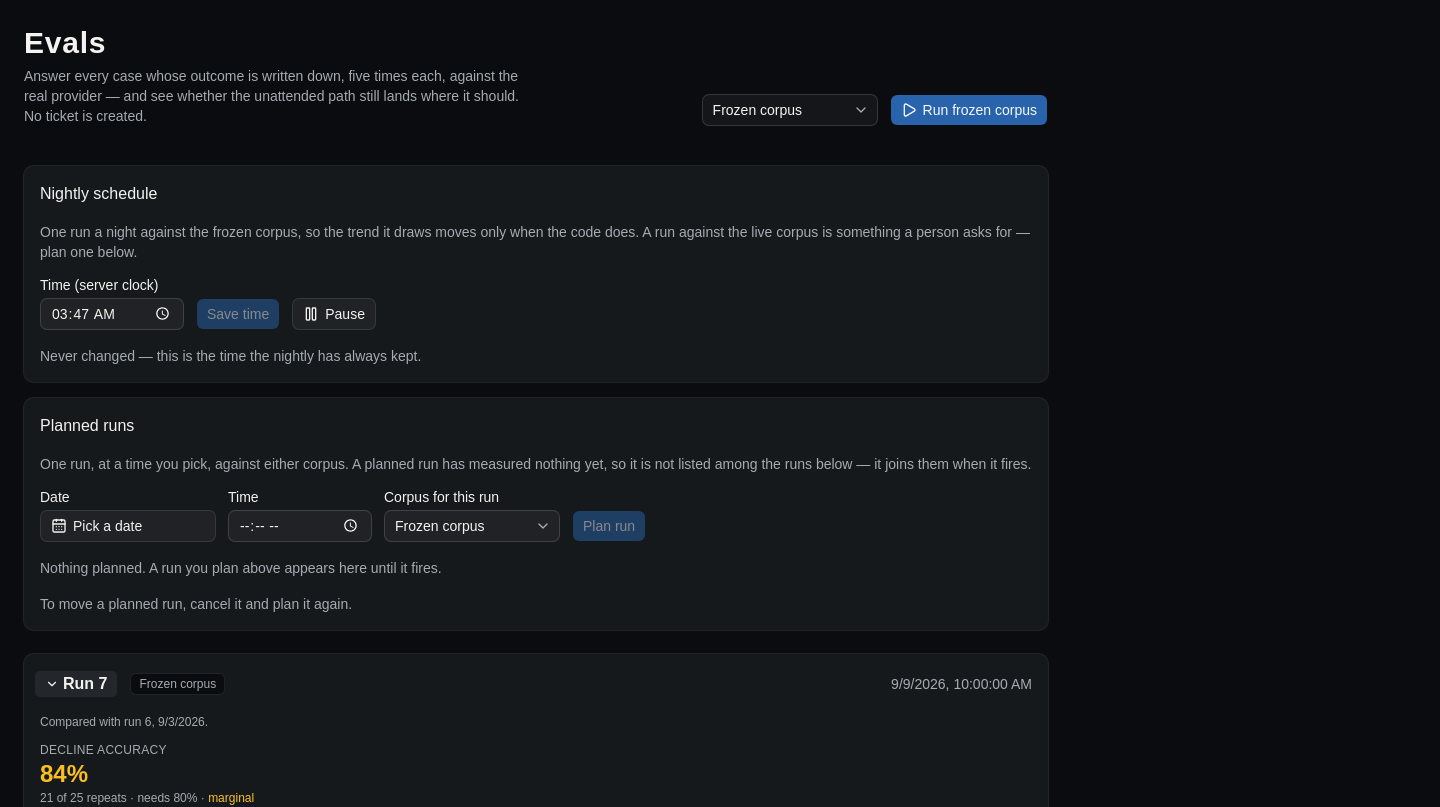
Test: folding a run › keeps the headline numbers on a collapsed run, and folds the rest away
The image size is (1440, 807).
Step 1. Click the button "Run 7" → (76,684), box [34, 670, 118, 698]
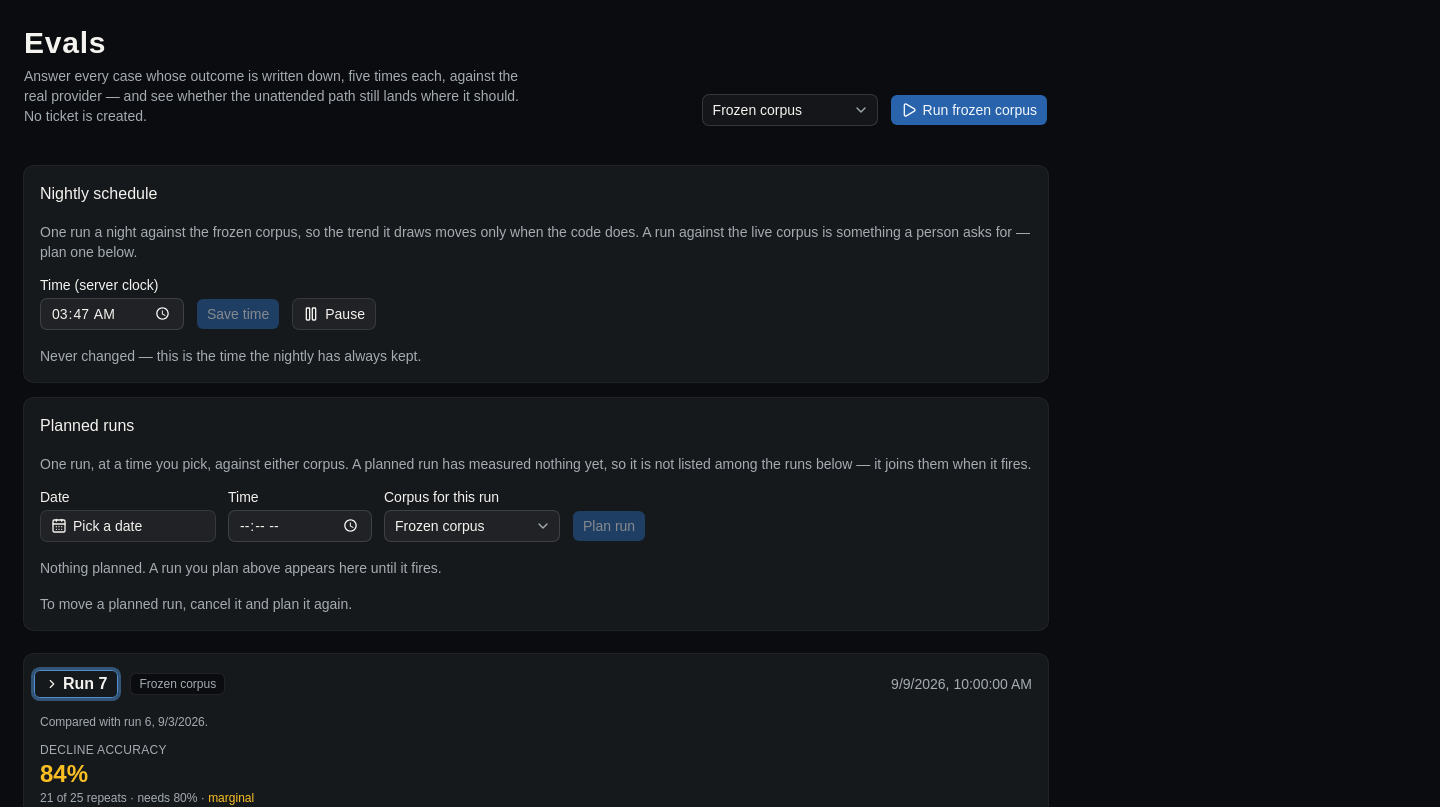
Expected: the text "Frozen corpus" in the row of "9/9/2026, 10:00:00 AM" is shown, [140, 676, 216, 690]
Result: the button "Run 7" is collapsed at [34, 670, 118, 698]
